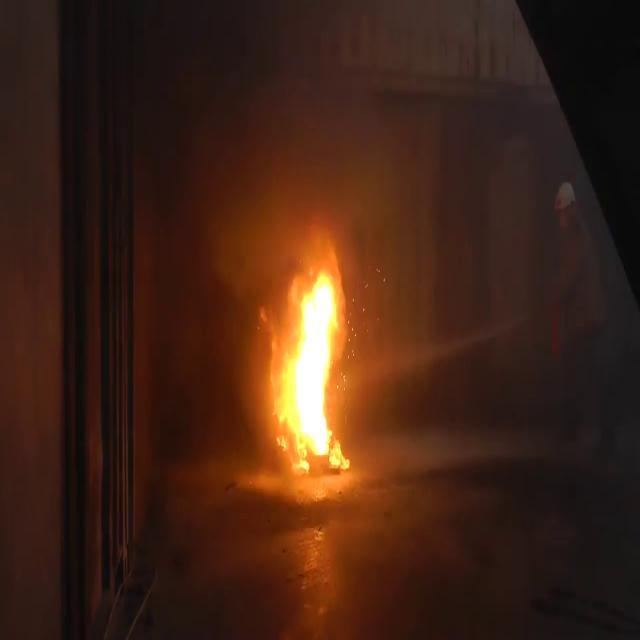Fire: (285, 254, 349, 471)
Smoke: (127, 0, 452, 298)
